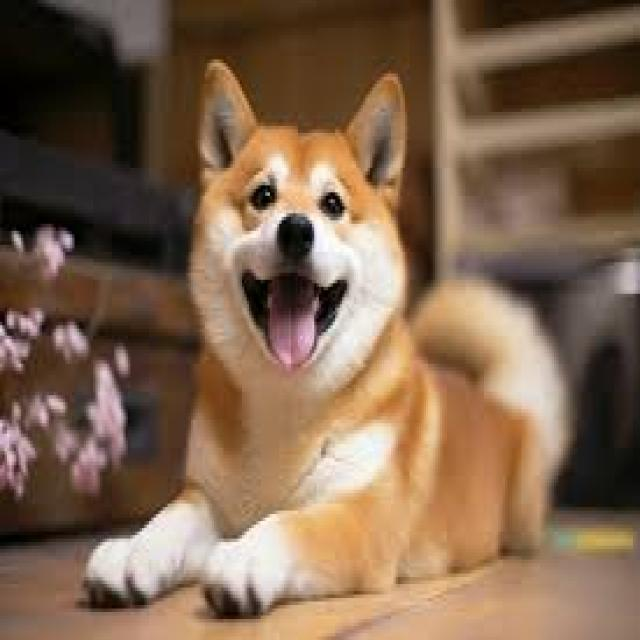Shiba-Inu: (84, 60, 578, 619)
